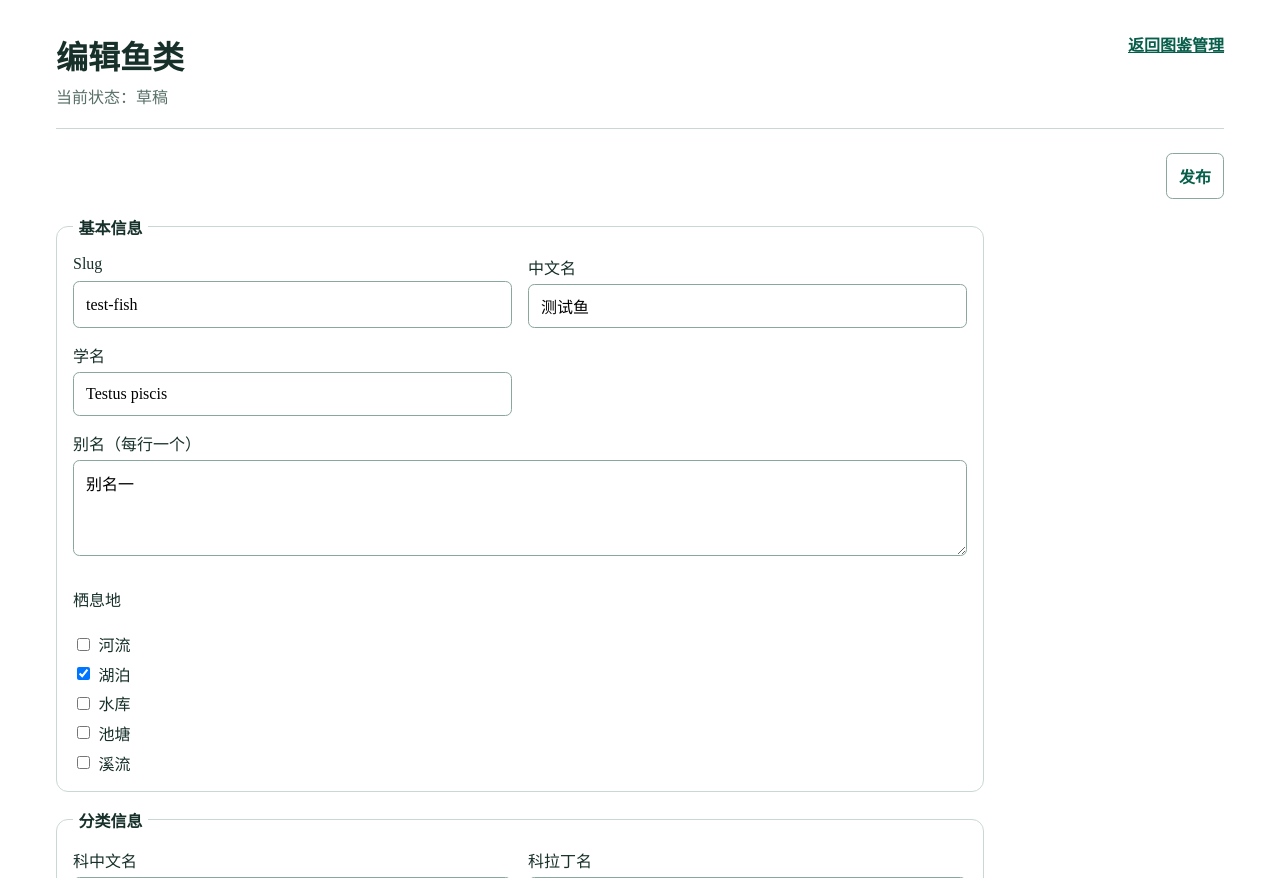
Test: prevents duplicate publication actions while a request is pending
The width and height of the screenshot is (1280, 878).
Click the button "发布". click: [1195, 176]
box: [1166,153,1224,199]
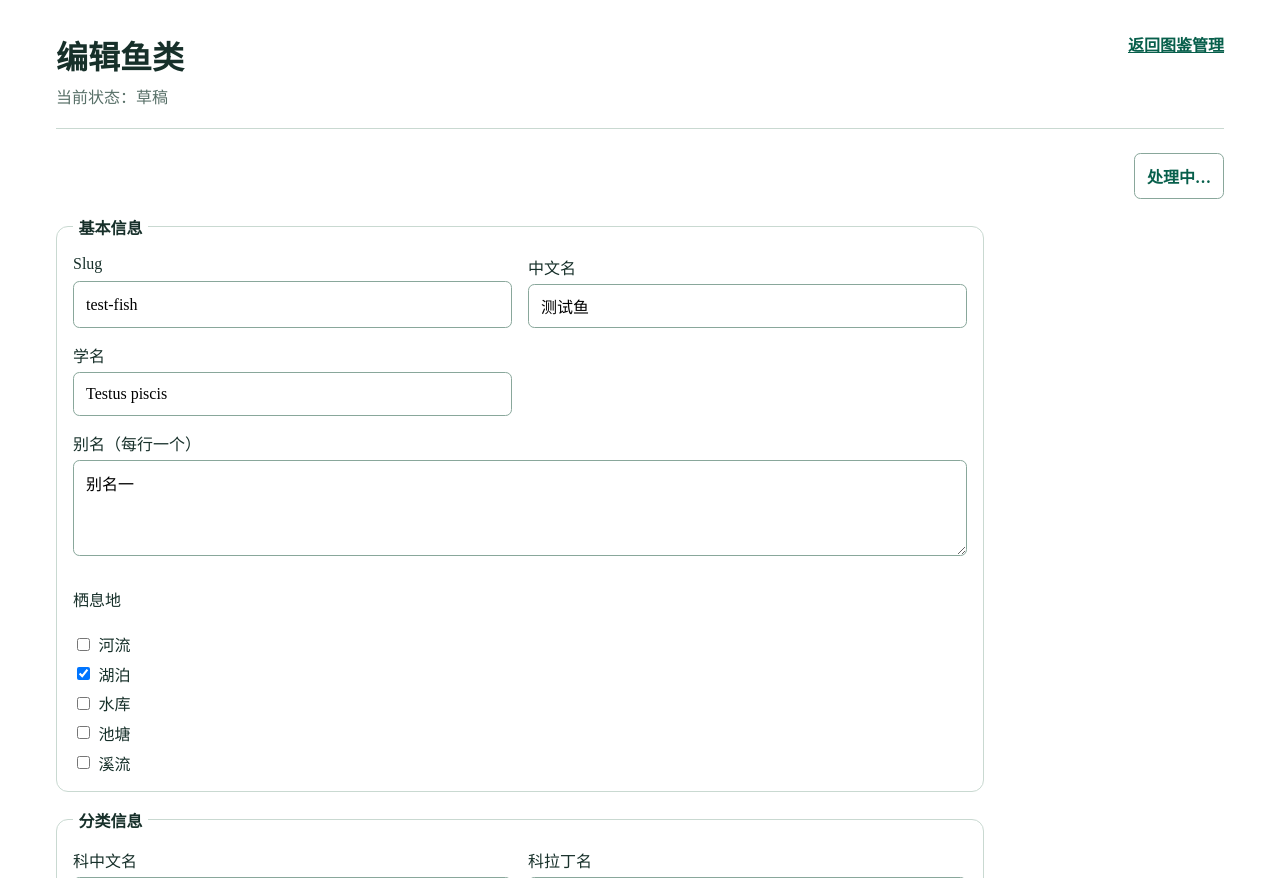
Click the button named "发布". click: [1179, 176]
box: [1134,153,1224,199]
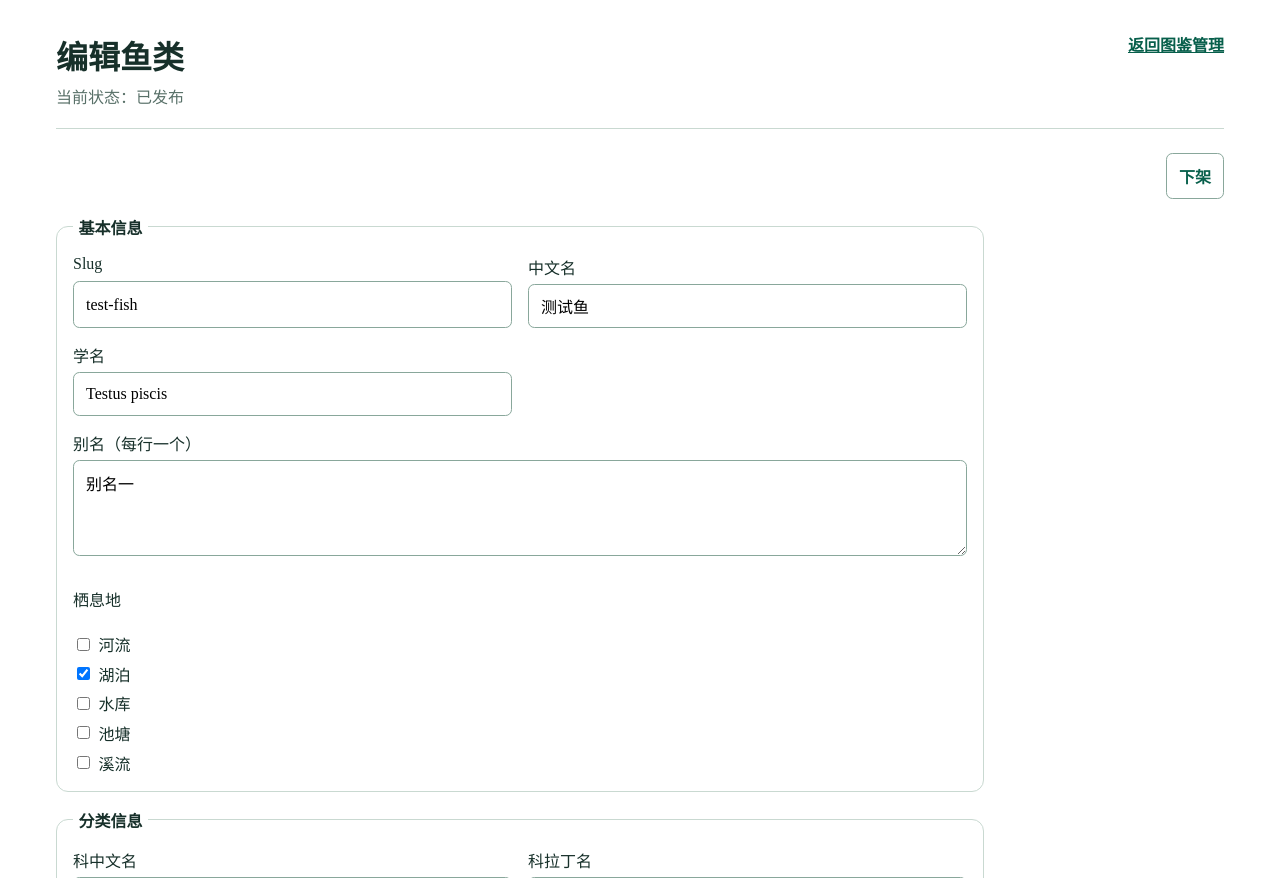
Now the button named "发布" is enabled, box [1166,153,1224,199]
